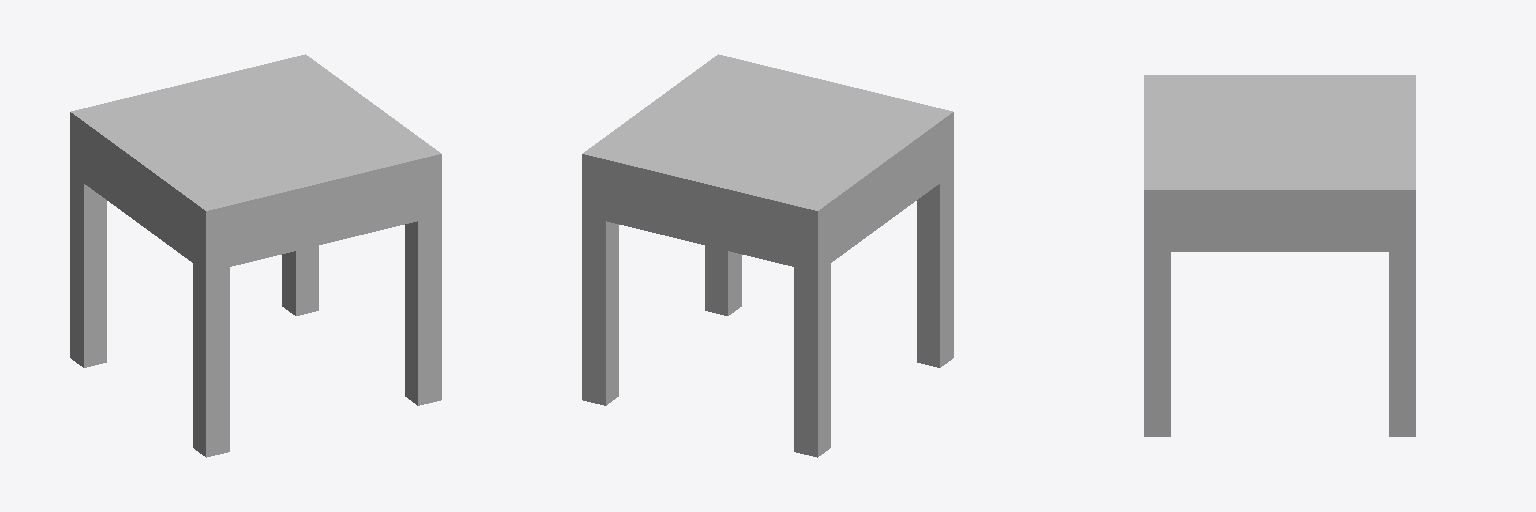
Rendered from structure-wall.obj.
3 views of the same model, side by side, from view 1: azimuth 30°, elevation 25°; view 2: azimuth 150°, elevation 25°; view 3: azimuth 270°, elevation 25° (orthographic).
Visible parts, largest first — view 1: structure-wall; view 2: structure-wall; view 3: structure-wall.
Boxes of the visible parts, box(x1,y1,x2,y2) form: structure-wall: box(70, 54, 441, 457); structure-wall: box(582, 54, 953, 457); structure-wall: box(1144, 75, 1415, 436).
Size of the model in its own units: 1 by 1 by 1.